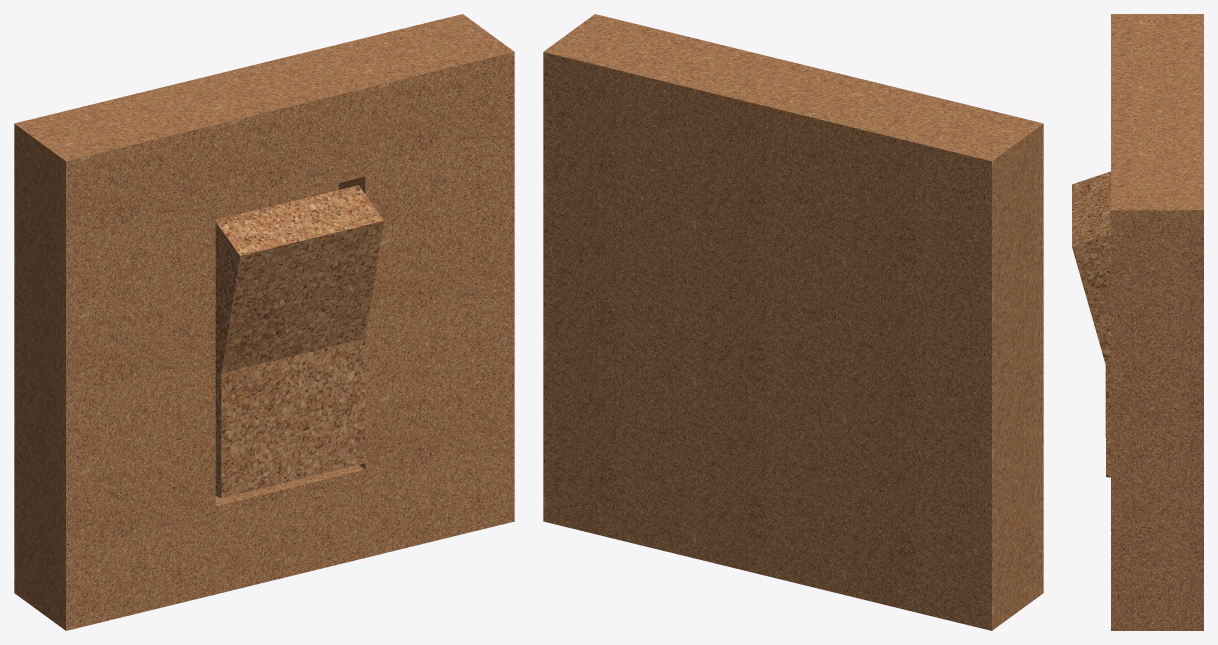
File: LightSwitch.fbx
The picture shows the model from 3 angles, left to right: view 1: azimuth 30°, elevation 25°; view 2: azimuth 150°, elevation 25°; view 3: azimuth 270°, elevation 25°; orthographic projection. The views are drawn at different scales.
Parts seen in each view (by area): view 1: LightSwitch, switch; view 2: LightSwitch; view 3: LightSwitch, switch.
Part boxes in pixels (left/top/right/bottom): LightSwitch: left=14, top=14, right=514, bottom=630; switch: left=215, top=185, right=383, bottom=498; LightSwitch: left=543, top=14, right=1043, bottom=630; LightSwitch: left=1111, top=14, right=1203, bottom=630; switch: left=1072, top=171, right=1110, bottom=477.
Bounding box in the file's own units: 78.6 × 78.6 × 22.31.
